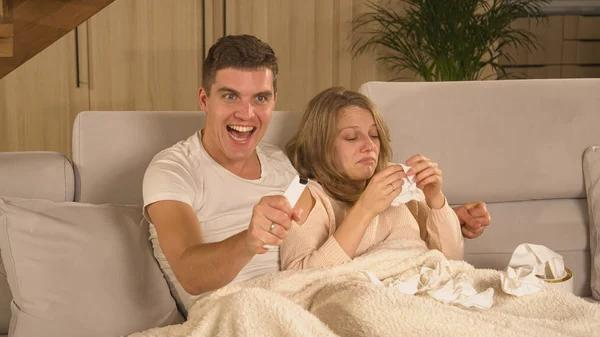blanket: (116, 245, 600, 337)
short sleeve shirt: (141, 128, 303, 312)
sweater: (279, 169, 463, 273)
